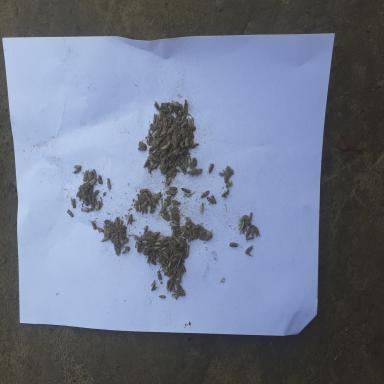pbw: (179, 162, 187, 176), (238, 219, 245, 234), (160, 157, 166, 174), (199, 190, 209, 200), (171, 233, 180, 244), (244, 235, 256, 243), (222, 188, 230, 200), (160, 148, 168, 160), (162, 250, 170, 262), (165, 118, 172, 131), (83, 168, 90, 181), (165, 139, 172, 152), (241, 220, 250, 230), (192, 168, 202, 177), (171, 100, 182, 108), (206, 196, 214, 207), (151, 280, 159, 291), (186, 168, 198, 175), (162, 162, 169, 174), (244, 245, 253, 254), (225, 165, 234, 174), (173, 132, 178, 148), (149, 121, 157, 131), (160, 203, 168, 213), (180, 186, 190, 194), (154, 191, 162, 201), (192, 223, 202, 231), (146, 132, 152, 145), (105, 177, 111, 190), (144, 192, 151, 203), (170, 243, 176, 255), (148, 161, 154, 173), (167, 125, 175, 134), (204, 233, 213, 241), (167, 170, 175, 179), (208, 163, 214, 175), (171, 225, 181, 232), (167, 268, 174, 278), (181, 263, 186, 277), (153, 101, 160, 111), (179, 154, 186, 164), (255, 226, 260, 240), (164, 134, 171, 144), (188, 138, 194, 149), (140, 236, 151, 242), (158, 121, 164, 132), (180, 285, 186, 296), (151, 247, 164, 252), (122, 246, 130, 254), (158, 134, 166, 142), (162, 214, 170, 222), (167, 150, 175, 158), (180, 147, 188, 155), (187, 218, 195, 226), (144, 246, 152, 254), (147, 252, 151, 268), (66, 209, 74, 217), (166, 113, 174, 121), (226, 179, 233, 188), (172, 231, 182, 237), (173, 120, 183, 126), (159, 111, 165, 121), (176, 258, 182, 268), (175, 146, 181, 156), (136, 194, 142, 204), (156, 271, 162, 281), (127, 214, 132, 226), (169, 103, 174, 115), (245, 228, 251, 238), (210, 194, 216, 204), (141, 204, 147, 214), (164, 198, 171, 206), (198, 224, 206, 231), (182, 246, 186, 260), (156, 236, 164, 243), (92, 189, 99, 197), (182, 131, 189, 139), (142, 229, 150, 236), (81, 184, 89, 191), (163, 116, 167, 130), (135, 200, 139, 214), (83, 182, 91, 189), (186, 125, 191, 136), (229, 242, 240, 247), (151, 196, 156, 207), (183, 103, 188, 114), (98, 173, 103, 184), (166, 279, 171, 290), (153, 113, 158, 124), (171, 283, 176, 294), (92, 169, 97, 180), (171, 211, 180, 217), (91, 221, 97, 230), (143, 159, 149, 168), (139, 188, 148, 194), (174, 252, 183, 258), (179, 118, 188, 124), (118, 227, 127, 233), (103, 220, 112, 226), (184, 137, 188, 150), (173, 264, 177, 277), (137, 199, 141, 212), (95, 200, 100, 210), (172, 162, 177, 172), (168, 186, 178, 191), (188, 235, 198, 240), (175, 280, 180, 290), (156, 252, 161, 262), (76, 188, 81, 198), (171, 200, 181, 205), (191, 162, 198, 169), (109, 223, 116, 230), (152, 130, 159, 137), (114, 245, 121, 252), (152, 147, 159, 154), (152, 162, 159, 169), (164, 210, 170, 218), (176, 111, 182, 119), (188, 118, 192, 130), (173, 273, 179, 281), (89, 184, 93, 196), (190, 158, 196, 166), (90, 178, 96, 186), (146, 189, 152, 197), (178, 124, 182, 136), (190, 130, 196, 138), (184, 156, 188, 168), (172, 257, 180, 263), (183, 227, 189, 235), (131, 235, 140, 240), (224, 174, 229, 183), (163, 236, 172, 241), (173, 246, 182, 251), (183, 111, 188, 120), (167, 190, 176, 195), (144, 224, 149, 233), (101, 237, 110, 242), (179, 266, 184, 275), (251, 225, 255, 236), (103, 224, 107, 235), (185, 247, 189, 258), (88, 193, 92, 204), (177, 266, 181, 277), (91, 195, 95, 206), (150, 238, 156, 245), (173, 219, 180, 225), (74, 168, 81, 174), (160, 127, 166, 134), (160, 252, 163, 266), (147, 239, 153, 246), (166, 178, 172, 185), (122, 238, 128, 245), (79, 186, 85, 193), (153, 232, 160, 238), (181, 122, 188, 128), (150, 258, 156, 265), (152, 251, 156, 261), (158, 295, 166, 300), (80, 207, 88, 212), (161, 102, 169, 107), (160, 145, 168, 150), (165, 155, 169, 165), (178, 235, 186, 240), (192, 143, 200, 148), (169, 254, 174, 262), (173, 168, 181, 173), (162, 108, 170, 113), (155, 117, 159, 127), (172, 117, 182, 121), (200, 203, 204, 213), (161, 241, 169, 246), (191, 117, 194, 130), (160, 239, 166, 245), (188, 228, 192, 237), (177, 155, 181, 164), (184, 234, 190, 240), (150, 204, 154, 213), (188, 155, 191, 167), (162, 261, 168, 267), (73, 164, 82, 168), (110, 233, 116, 239), (97, 227, 104, 232), (143, 244, 150, 249), (160, 131, 167, 136), (120, 225, 127, 230), (155, 150, 160, 157), (170, 222, 177, 227), (204, 231, 212, 235), (138, 147, 146, 151), (174, 249, 182, 253), (178, 276, 182, 284), (73, 198, 76, 208), (116, 230, 119, 240), (176, 291, 182, 296), (120, 220, 124, 227), (119, 232, 123, 239), (197, 230, 204, 234), (172, 294, 179, 298), (141, 241, 148, 245), (154, 242, 161, 246), (249, 212, 252, 221), (116, 217, 118, 228), (122, 230, 124, 240), (161, 198, 163, 207)
